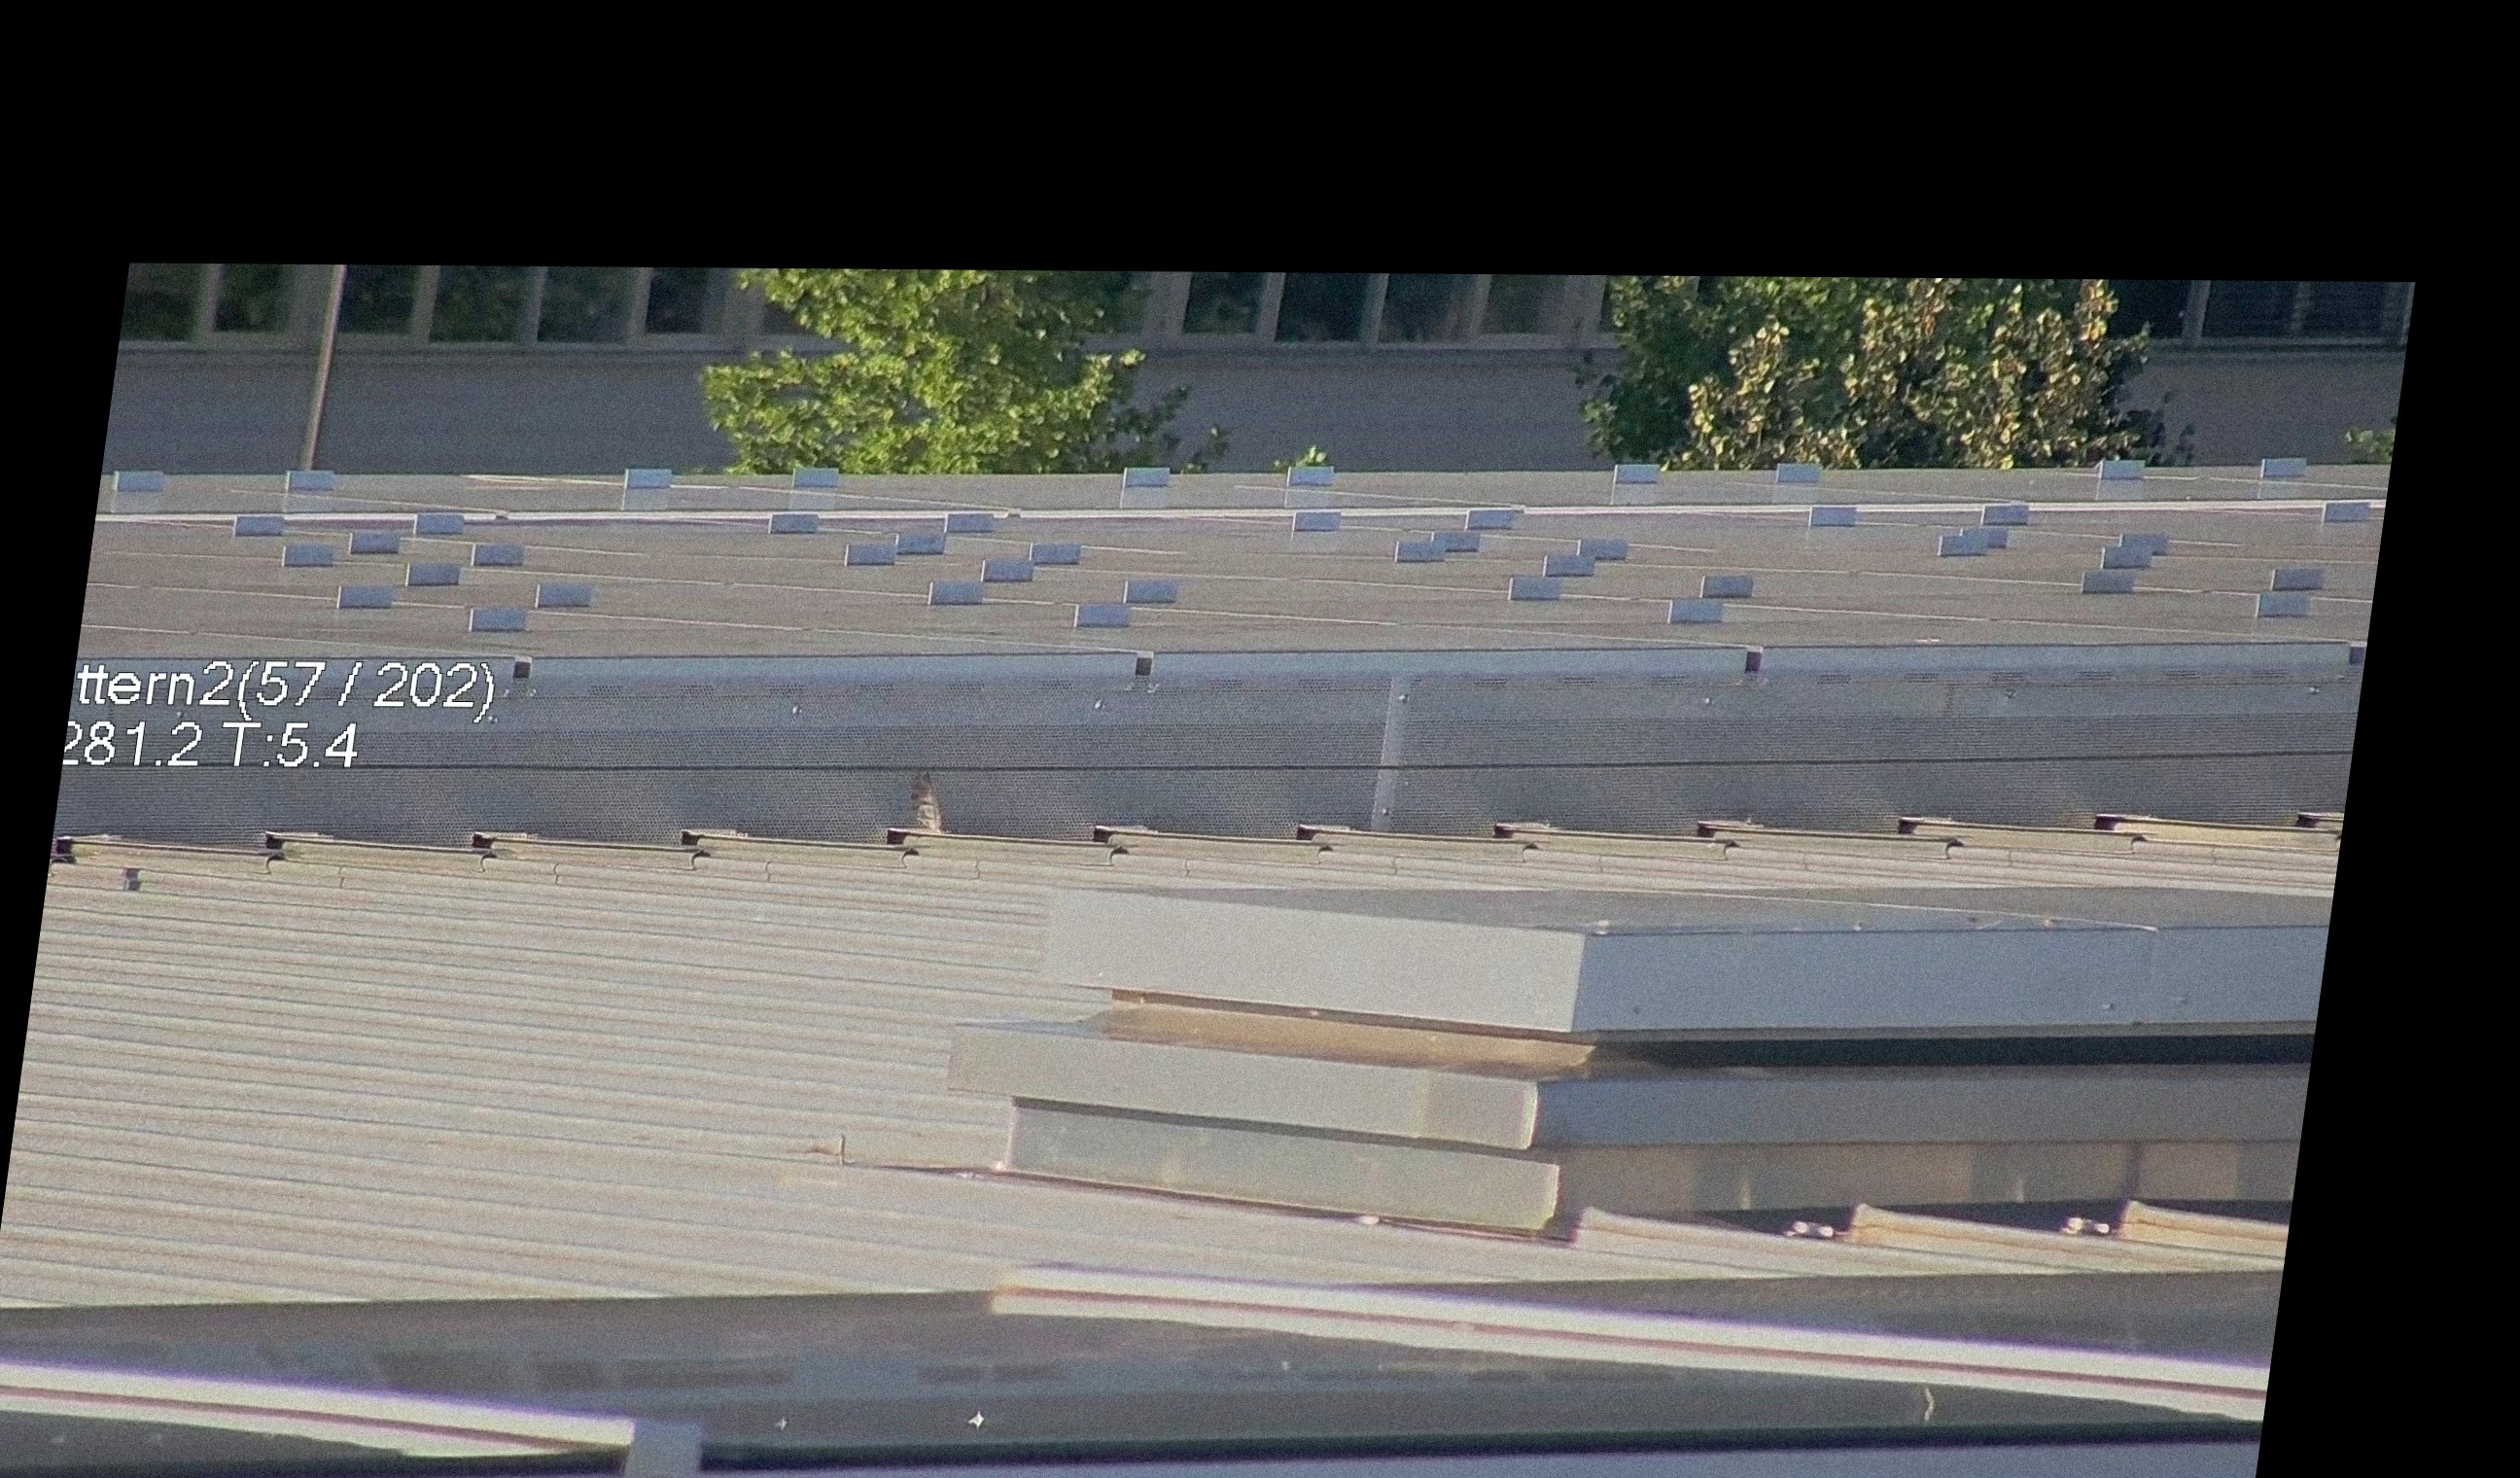Other: (876, 755, 958, 857)
